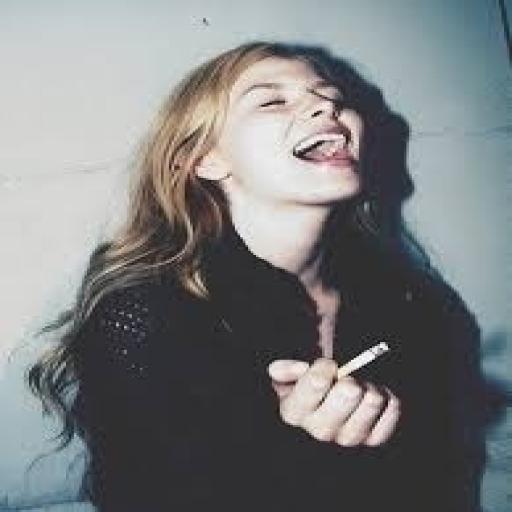laughing: (18, 34, 499, 510)
